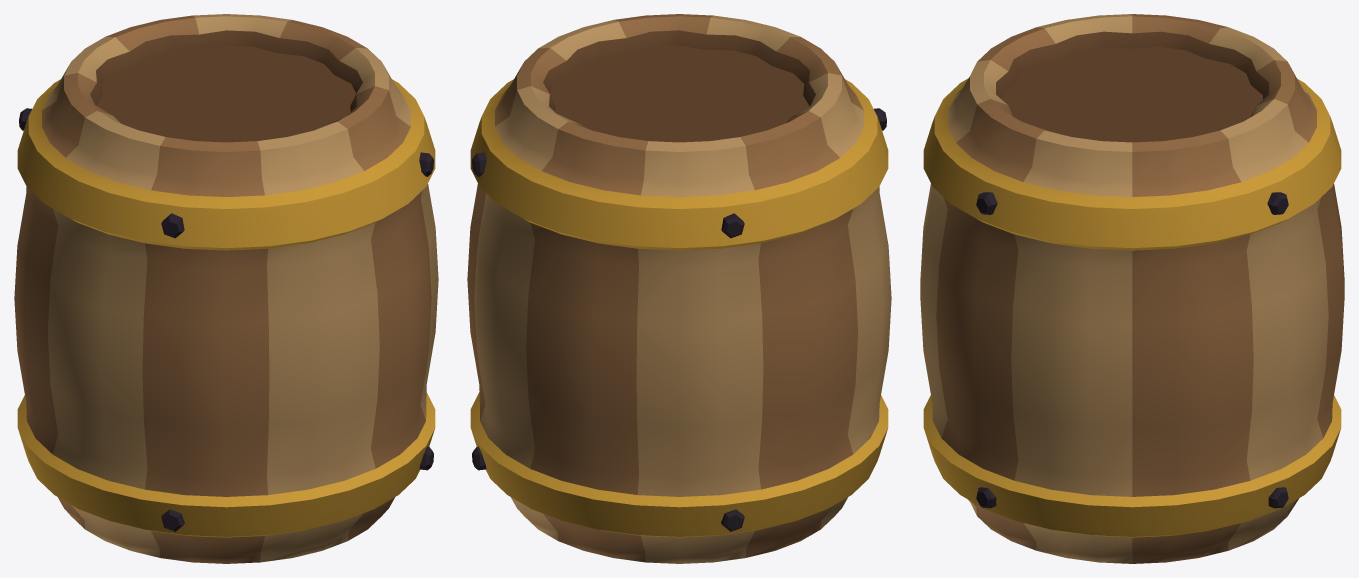
Rendered from Barrel_20.glb.
3 views of the same model, side by side, from view 1: azimuth 30°, elevation 25°; view 2: azimuth 150°, elevation 25°; view 3: azimuth 270°, elevation 25° (orthographic).
Visible parts, largest first — view 1: Barrel_20; view 2: Barrel_20; view 3: Barrel_20.
Boxes of the visible parts, box(x1,y1,x2,y2) form: Barrel_20: box(14, 14, 438, 563); Barrel_20: box(467, 14, 891, 563); Barrel_20: box(920, 14, 1344, 563).
Bounding box in the file's own units: 2.1 × 2.31 × 2.12.
